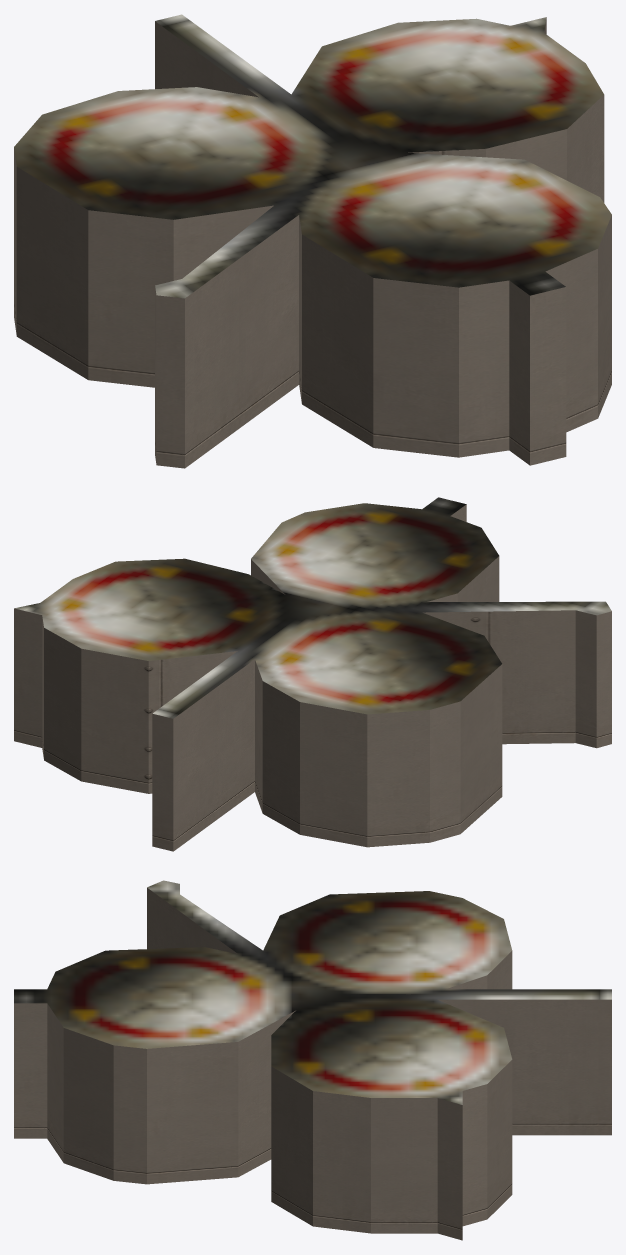
File: fuel_tank_light_27.glb
The picture shows the model from 3 angles, top to bottom: view 1: azimuth 30°, elevation 25°; view 2: azimuth 150°, elevation 25°; view 3: azimuth 270°, elevation 25°; orthographic projection. The views are drawn at different scales.
Parts seen in each view (by area): view 1: buildings/saxarba/fuel_tanks/fuel_tank_light_27; view 2: buildings/saxarba/fuel_tanks/fuel_tank_light_27; view 3: buildings/saxarba/fuel_tanks/fuel_tank_light_27.
Boxes of the visible parts, box(x1,y1,x2,y2) form: buildings/saxarba/fuel_tanks/fuel_tank_light_27: box(14, 14, 611, 468); buildings/saxarba/fuel_tanks/fuel_tank_light_27: box(14, 497, 611, 851); buildings/saxarba/fuel_tanks/fuel_tank_light_27: box(14, 880, 611, 1240).
Bounding box in the file's own units: 64 × 18 × 72.
